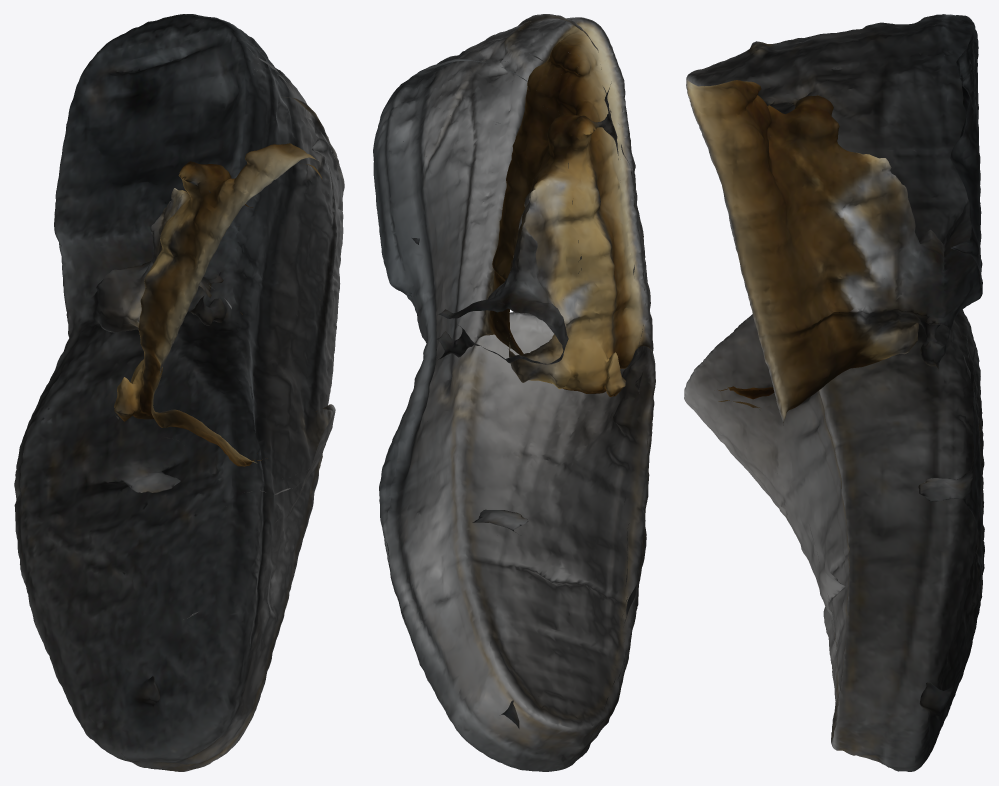
The model's file is leather.glb.
The picture shows the model from 3 angles, left to right: view 1: azimuth 30°, elevation 25°; view 2: azimuth 150°, elevation 25°; view 3: azimuth 270°, elevation 25°; orthographic projection. The views are drawn at different scales.
Bounding box in the file's own units: 0.3642 × 1 × 0.3638.
